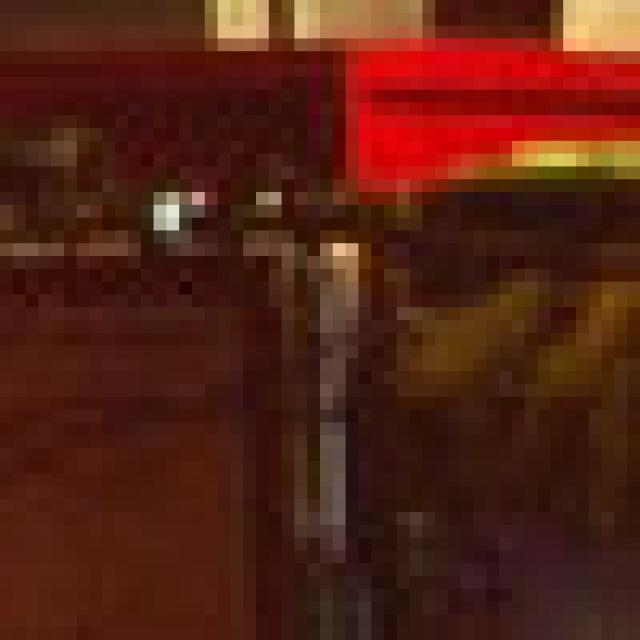no_fire: (51, 51, 640, 602)
